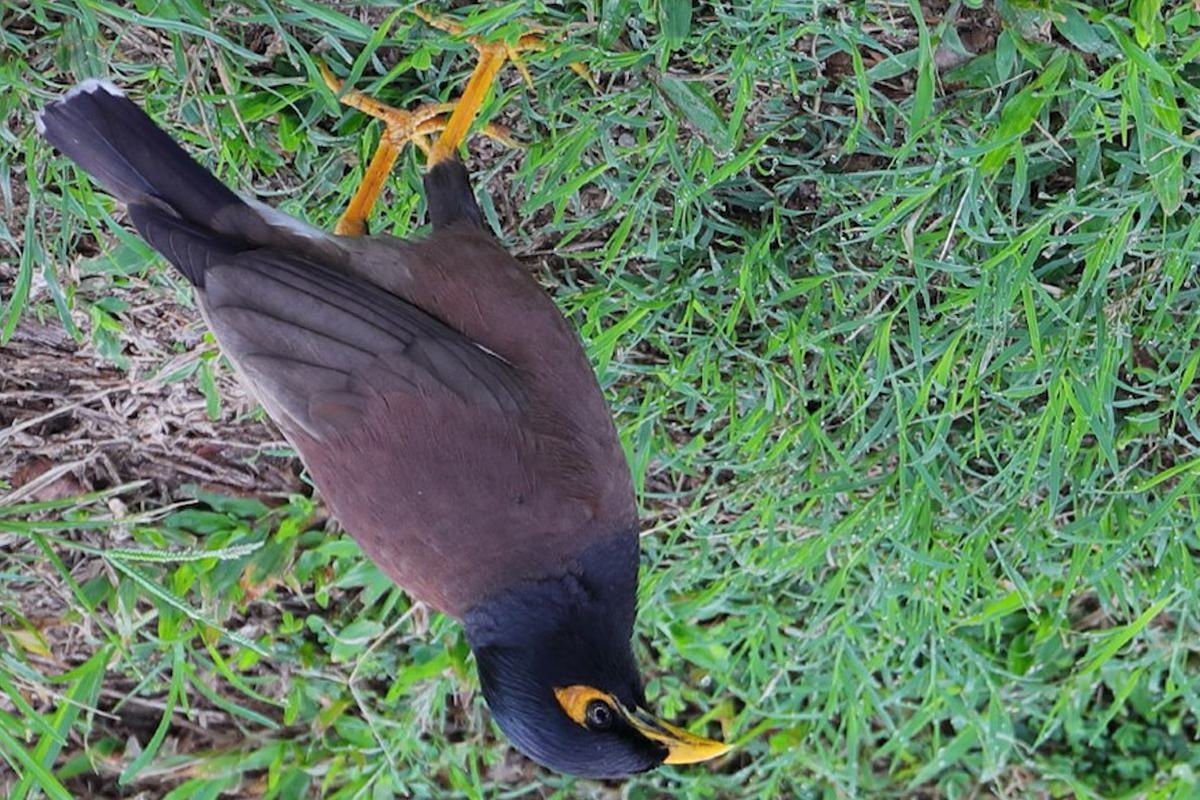myna: (175, 93, 740, 791)
